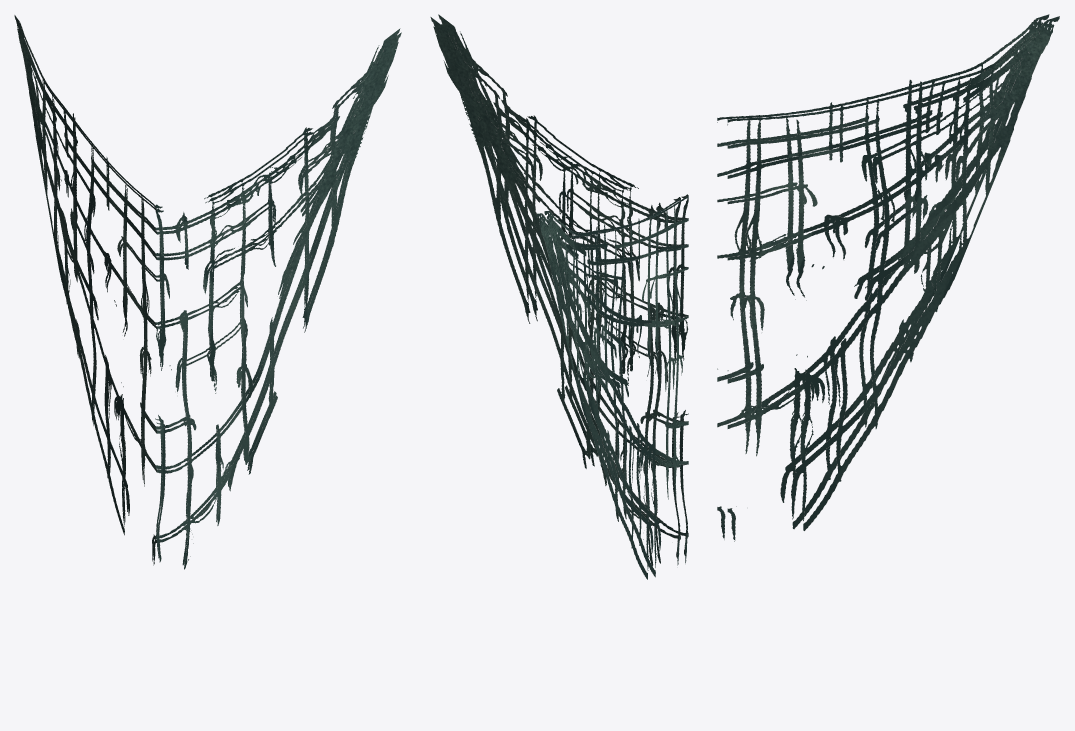
File: Fish_net09.fbx
3 views of the same model, side by side, from view 1: azimuth 30°, elevation 25°; view 2: azimuth 150°, elevation 25°; view 3: azimuth 270°, elevation 25° (orthographic). The views are drawn at different scales.
Visible parts, largest first — view 1: Fish_net09; view 2: Fish_net09; view 3: Fish_net09.
Boxes of the visible parts, x1,y1,x2,y2 form: Fish_net09: (14, 15, 401, 569); Fish_net09: (430, 14, 688, 579); Fish_net09: (717, 14, 1059, 541).
Bounding box in the file's own units: 1.01 × 2.44 × 1.03.
1 material, 1 textured.
